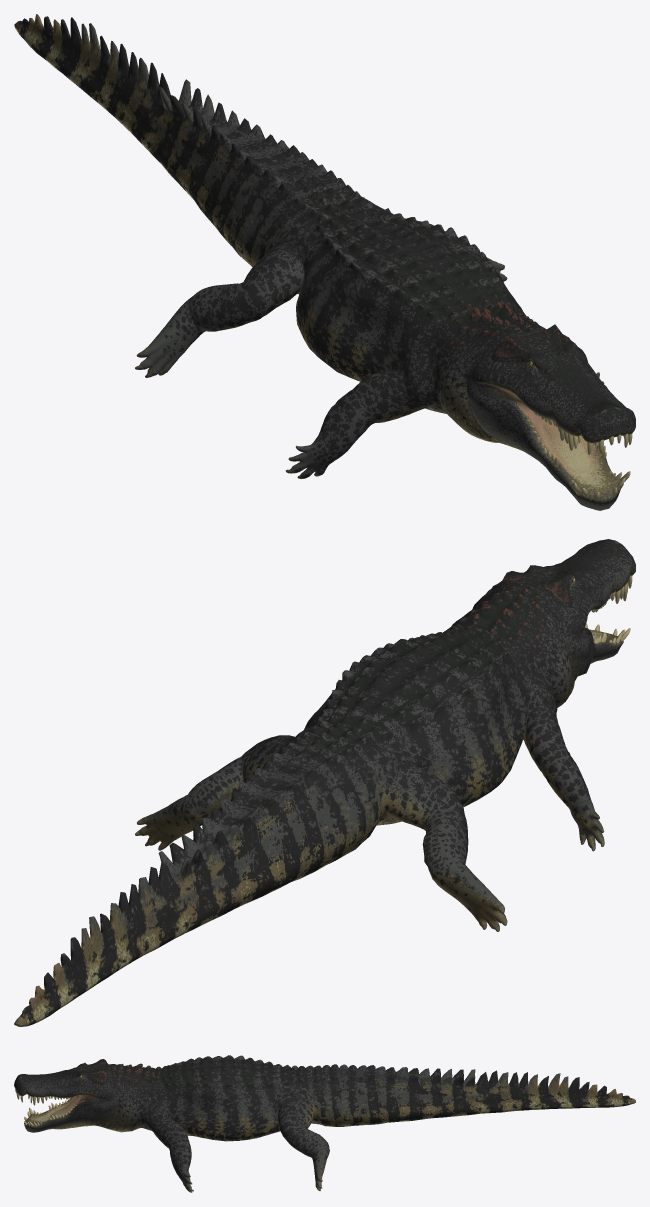
The model's file is Deinosuchus.glb.
The picture shows the model from 3 angles, top to bottom: view 1: azimuth 30°, elevation 25°; view 2: azimuth 150°, elevation 25°; view 3: azimuth 270°, elevation 25°; orthographic projection. The views are drawn at different scales.
Visible parts, largest first — view 1: DW_Deinosuchus_Adulto_Mayor_mesh; view 2: DW_Deinosuchus_Adulto_Mayor_mesh; view 3: DW_Deinosuchus_Adulto_Mayor_mesh.
Boxes of the visible parts, left/top/right/bottom form: DW_Deinosuchus_Adulto_Mayor_mesh: left=14, top=14, right=635, bottom=510; DW_Deinosuchus_Adulto_Mayor_mesh: left=14, top=539, right=635, bottom=1026; DW_Deinosuchus_Adulto_Mayor_mesh: left=14, top=1055, right=635, bottom=1192.
Size of the model in its own units: 0.3571 by 0.1618 by 1.
Materials: 2 (2 with a texture image).
